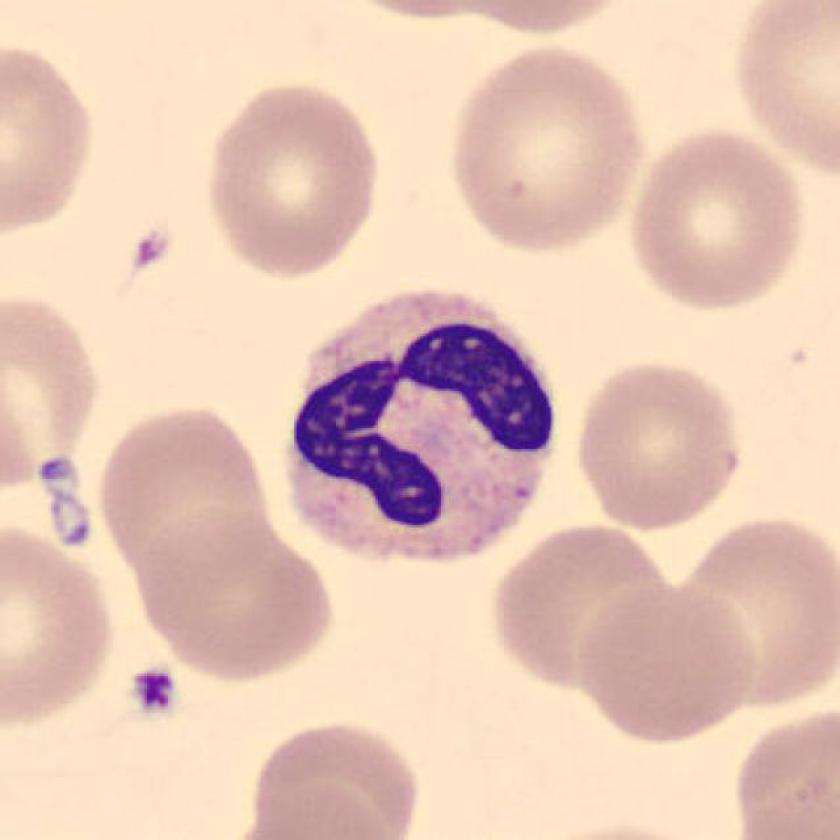neutrophil: (283, 291, 555, 561)
